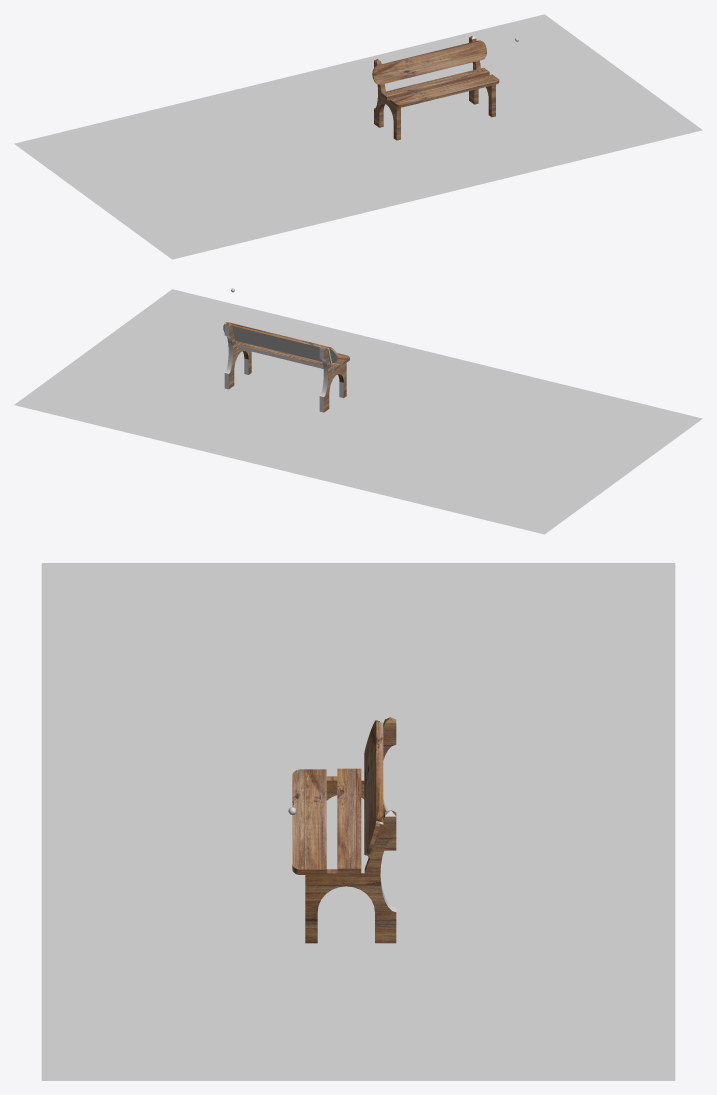
The model's file is Lawka 2 - model.fbx.
3 views of the same model, one above another, from view 1: azimuth 30°, elevation 25°; view 2: azimuth 150°, elevation 25°; view 3: azimuth 270°, elevation 25° (orthographic). The views are drawn at different scales.
Visible parts, largest first — view 1: Model; view 2: Model; view 3: Model.
Boxes of the visible parts, x1,y1,x2,y2 form: Model: (14,14,702,259); Model: (14,289,702,534); Model: (41,563,675,1080).
Size of the model in its own units: 73.38 by 10.12 by 37.93.
